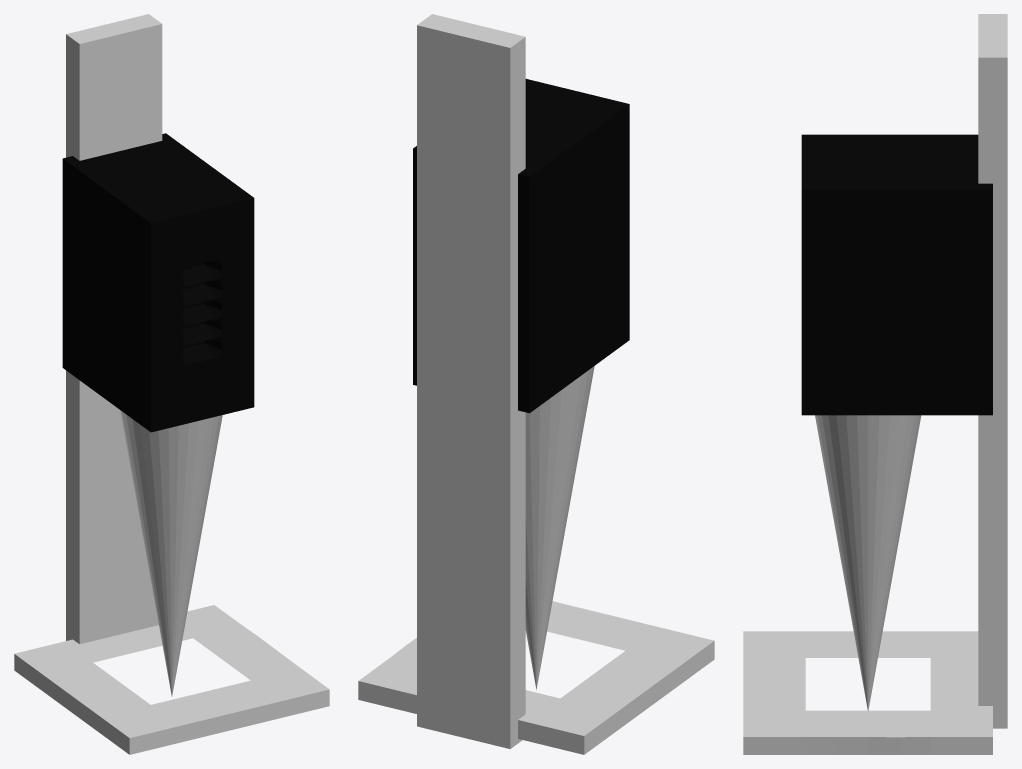
File: drill.glb
3 views of the same model, side by side, from view 1: azimuth 30°, elevation 25°; view 2: azimuth 150°, elevation 25°; view 3: azimuth 270°, elevation 25° (orthographic). The views are drawn at different scales.
Visible parts, largest first — view 1: Cube.002, Cube.001, Cube, Cone; view 2: Cube.001, Cube.002, Cube, Cone; view 3: Cube.002, Cube, Cube.001, Cone.
Boxes of the visible parts, <box> form: Cube.002: <box>62,133,254,432</box>; Cube.001: <box>66,14,162,644</box>; Cube: <box>14,605,329,754</box>; Cone: <box>120,410,222,696</box>; Cube.001: <box>417,14,525,748</box>; Cube.002: <box>413,79,629,413</box>; Cube: <box>358,601,714,754</box>; Cone: <box>525,366,594,689</box>; Cube.002: <box>801,134,992,415</box>; Cube: <box>743,631,992,754</box>; Cube.001: <box>978,14,1007,728</box>; Cone: <box>815,415,921,710</box>.
Size of the model in its own units: 2.01 by 5.99 by 2.12.
Materials: 1 (1 with a texture image).
